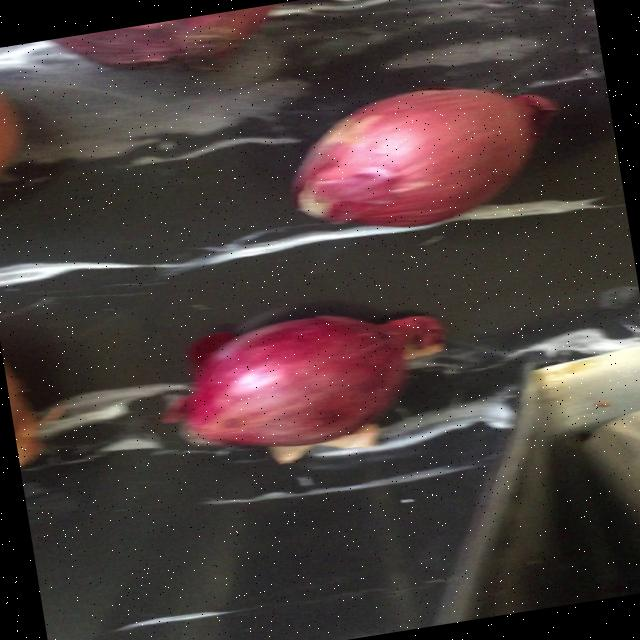Onion: (293, 87, 552, 225), (174, 315, 407, 446), (50, 4, 272, 67)
